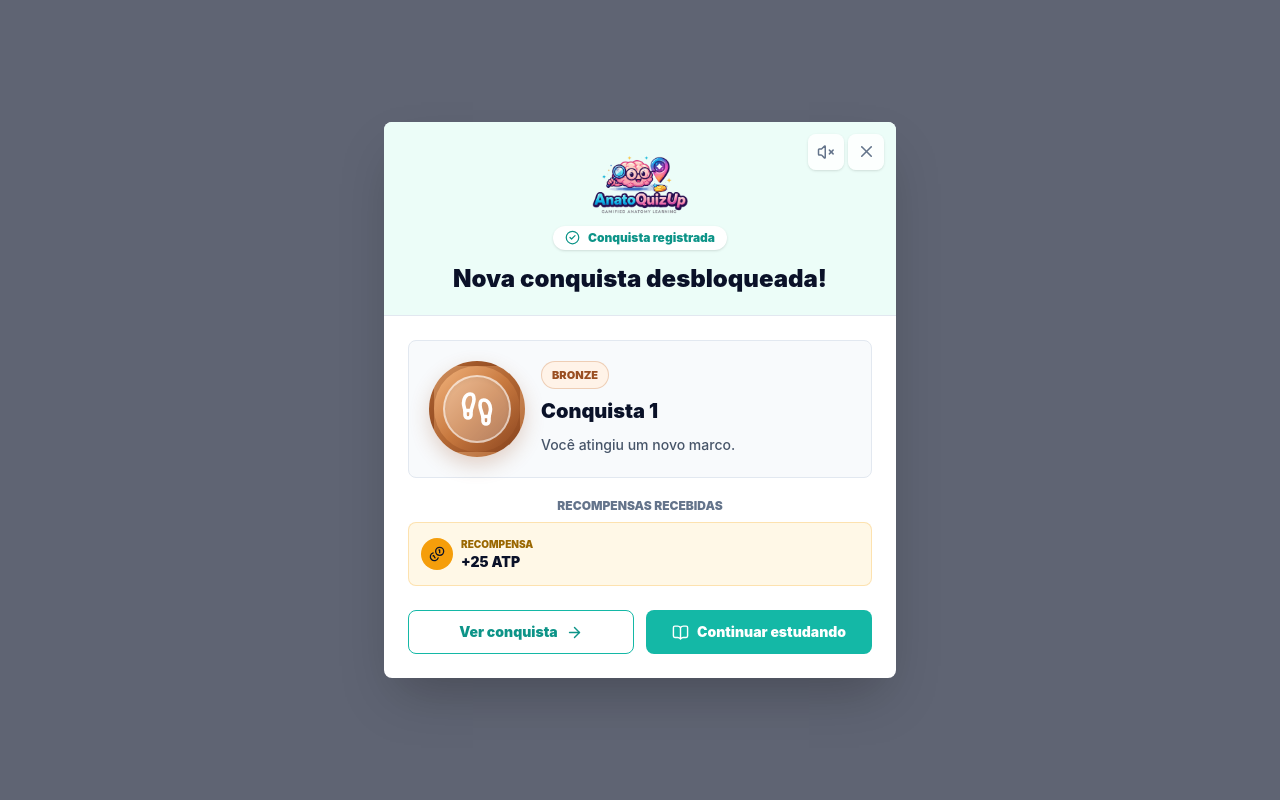
Scenario: AchievementUnlockModal › alterna e persiste a preferência de som
Click the button named "Ativar som" at (826, 152), box [808, 134, 844, 170]
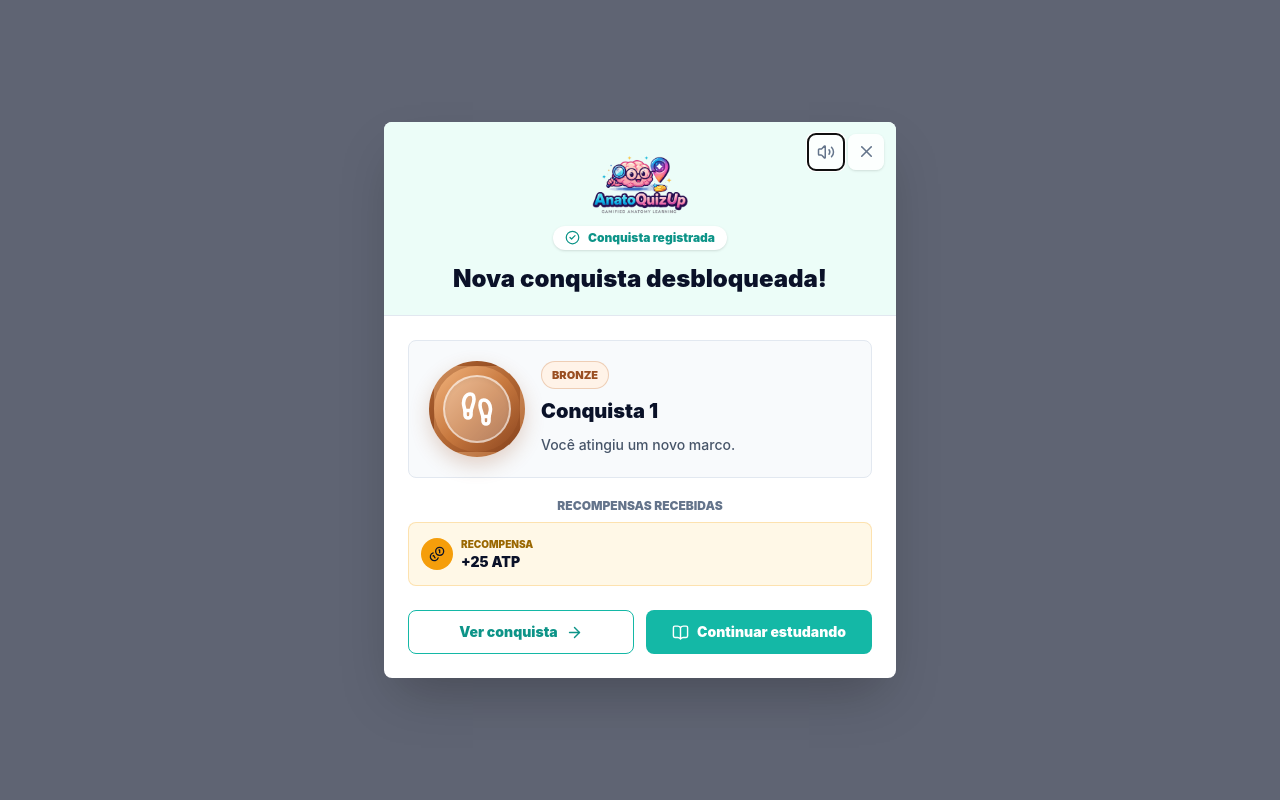
Expected: the button named "Desativar som" is shown, [808, 134, 844, 170]
